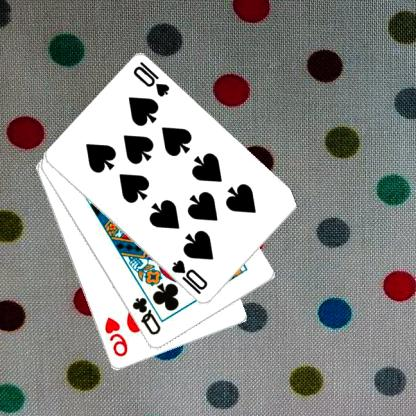10S: (132, 59, 173, 99), (171, 257, 211, 296)
9H: (103, 314, 131, 359)
QC: (131, 295, 164, 337)
